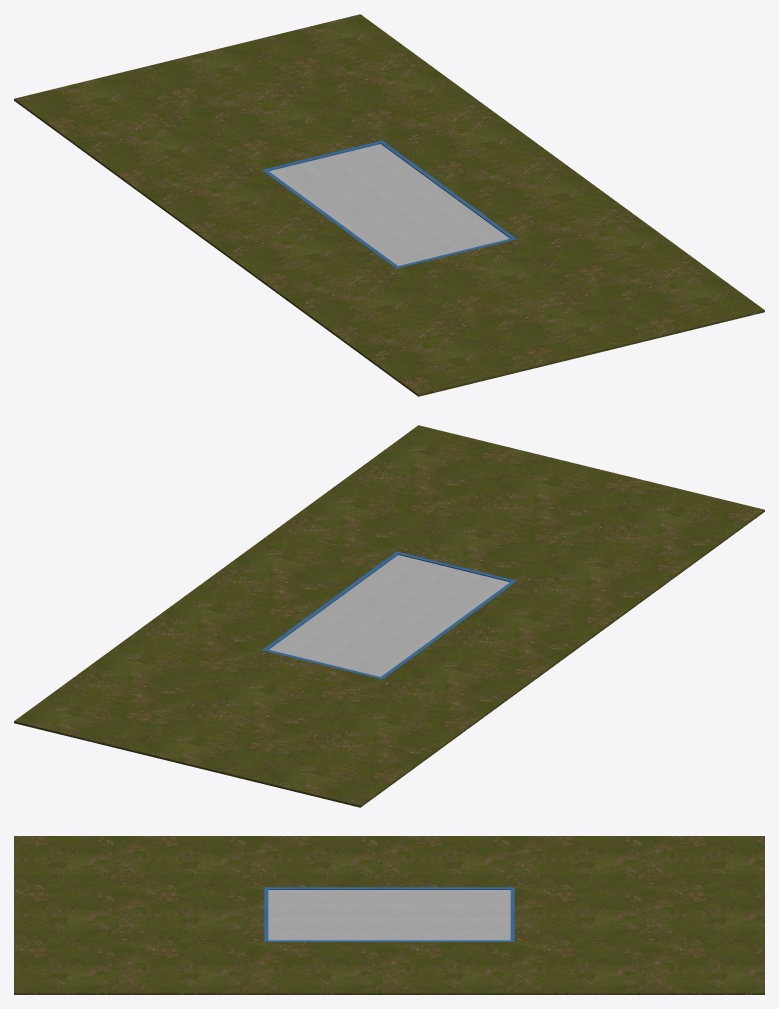
3 renders of one model, top to bottom at view 1: azimuth 30°, elevation 25°; view 2: azimuth 150°, elevation 25°; view 3: azimuth 270°, elevation 25°, orthographic. The views are drawn at different scales.
Parts seen in each view (by area): view 1: FrontOutside_15, BackOutside_14, RightOutside_13, LeftOutside_12, RoofLeft_37, RoofRight_38, LeftWall_1; view 2: BackOutside_14, FrontOutside_15, RightOutside_13, LeftOutside_12, RoofLeft_37, RoofRight_38, LeftWall_1; view 3: BackOutside_14, FrontOutside_15, LeftOutside_12, RightOutside_13, RoofLeft_37, RoofRight_38, RightWall_2, LeftWall_1.
Part boxes in pixels (x1=…): FrontOutside_15: x1=283, y1=211, x2=764, y2=396; BackOutside_14: x1=14, y1=14, x2=494, y2=198; RightOutside_13: x1=148, y1=170, x2=396, y2=297; LeftOutside_12: x1=382, y1=113, x2=629, y2=238; RoofLeft_37: x1=325, y1=144, x2=509, y2=252; RoofRight_38: x1=269, y1=157, x2=453, y2=265; LeftWall_1: x1=380, y1=142, x2=514, y2=238; BackOutside_14: x1=14, y1=622, x2=495, y2=807; FrontOutside_15: x1=284, y1=425, x2=764, y2=609; RightOutside_13: x1=382, y1=581, x2=630, y2=708; LeftOutside_12: x1=149, y1=524, x2=396, y2=649; RoofLeft_37: x1=269, y1=555, x2=453, y2=663; RoofRight_38: x1=325, y1=568, x2=509, y2=676; LeftWall_1: x1=264, y1=553, x2=398, y2=649; BackOutside_14: x1=514, y1=836, x2=764, y2=994; FrontOutside_15: x1=14, y1=836, x2=264, y2=994; LeftOutside_12: x1=264, y1=942, x2=514, y2=994; RightOutside_13: x1=264, y1=836, x2=514, y2=887; RoofLeft_37: x1=268, y1=915, x2=510, y2=940; RoofRight_38: x1=268, y1=890, x2=510, y2=915; RightWall_2: x1=268, y1=887, x2=510, y2=889; LeftWall_1: x1=268, y1=940, x2=510, y2=941.
Size of the model in its own units: 92 by 11 by 186.
21 materials, 14 textured.
